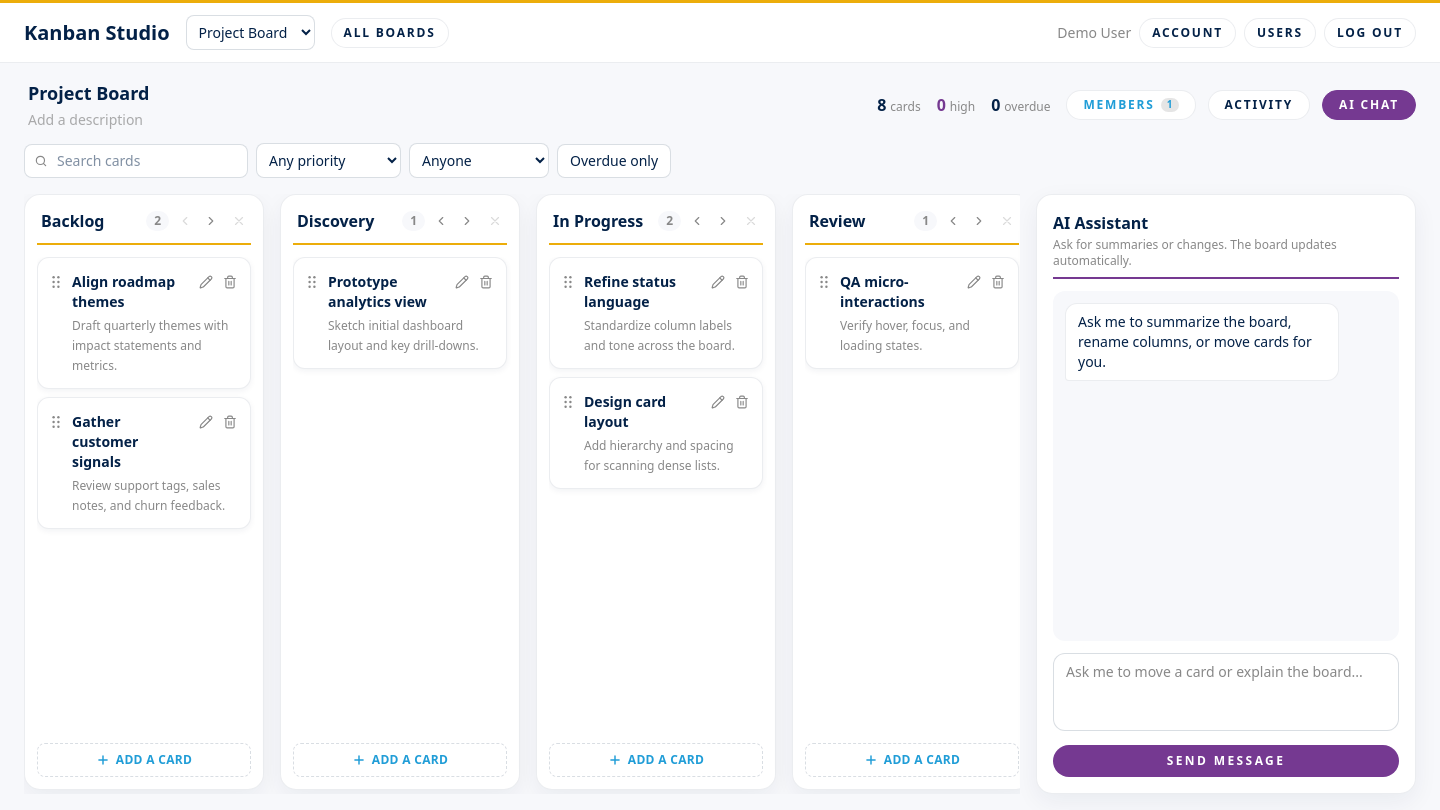
Test: Workspace › switches boards from the header and remembers the choice
Select "Second board" in the dropdown named "Current board": (250, 32) [186,15,315,50]
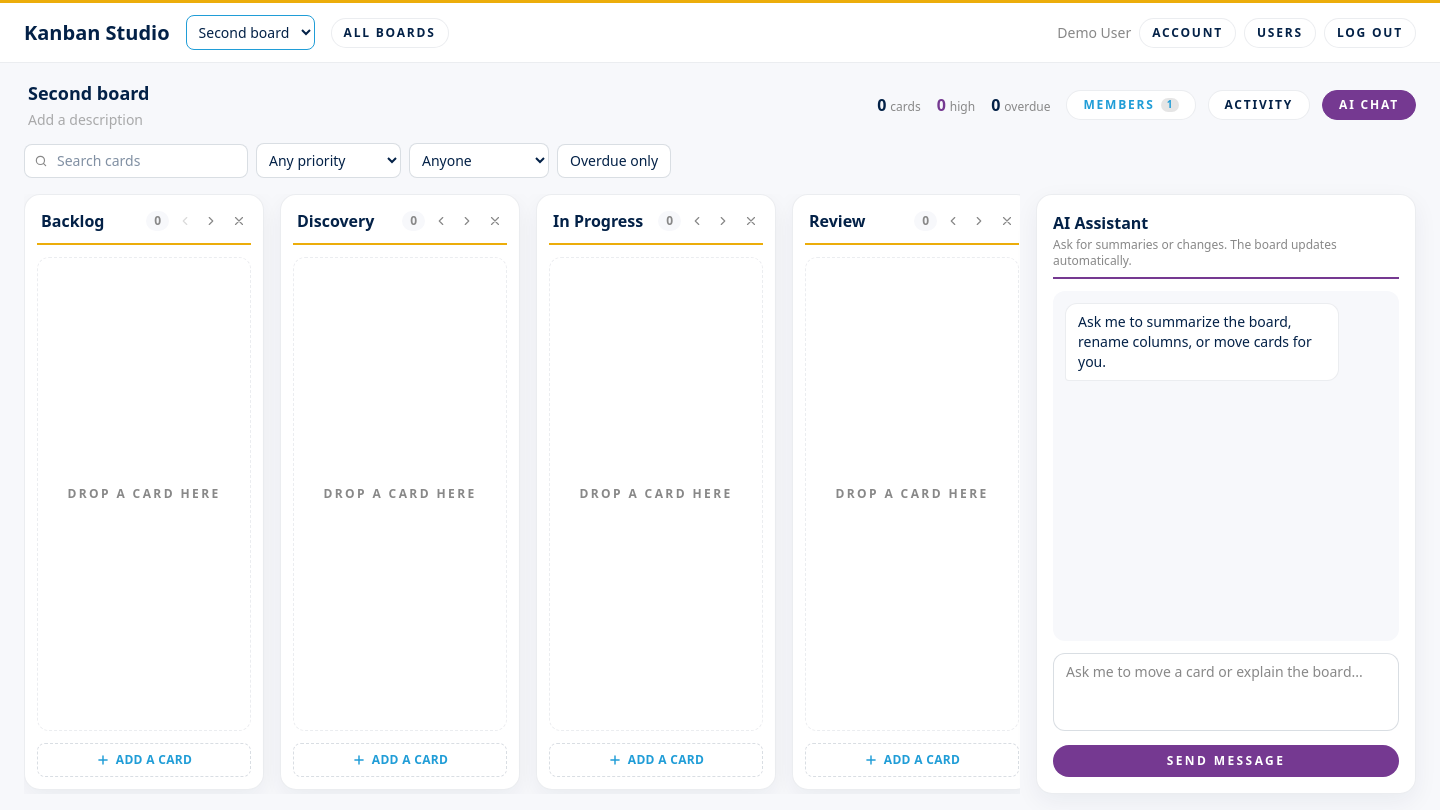
Expected: the field named "Board title" holds "Second board", [24,79,600,107]
Expected: the 1st text "Drop a card here" is shown, [37,257,251,731]
